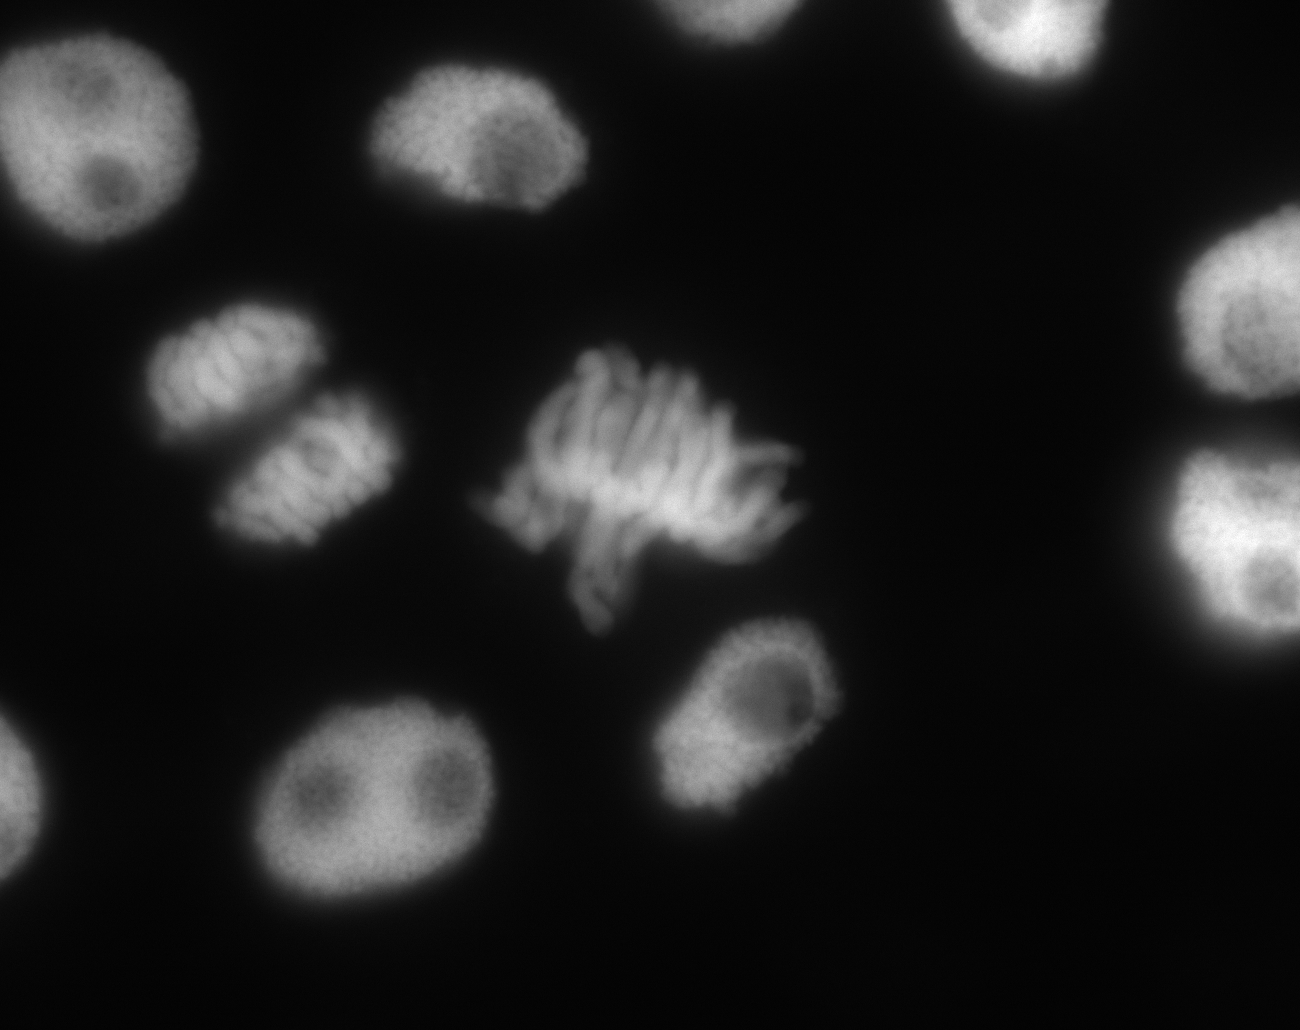Chromosomes: (435, 307, 850, 679), (111, 249, 380, 500)
Others: (207, 654, 538, 949), (615, 600, 880, 852), (326, 30, 623, 242), (1, 15, 232, 276), (1109, 411, 1300, 711), (1131, 174, 1300, 418), (893, 1, 1155, 123)
